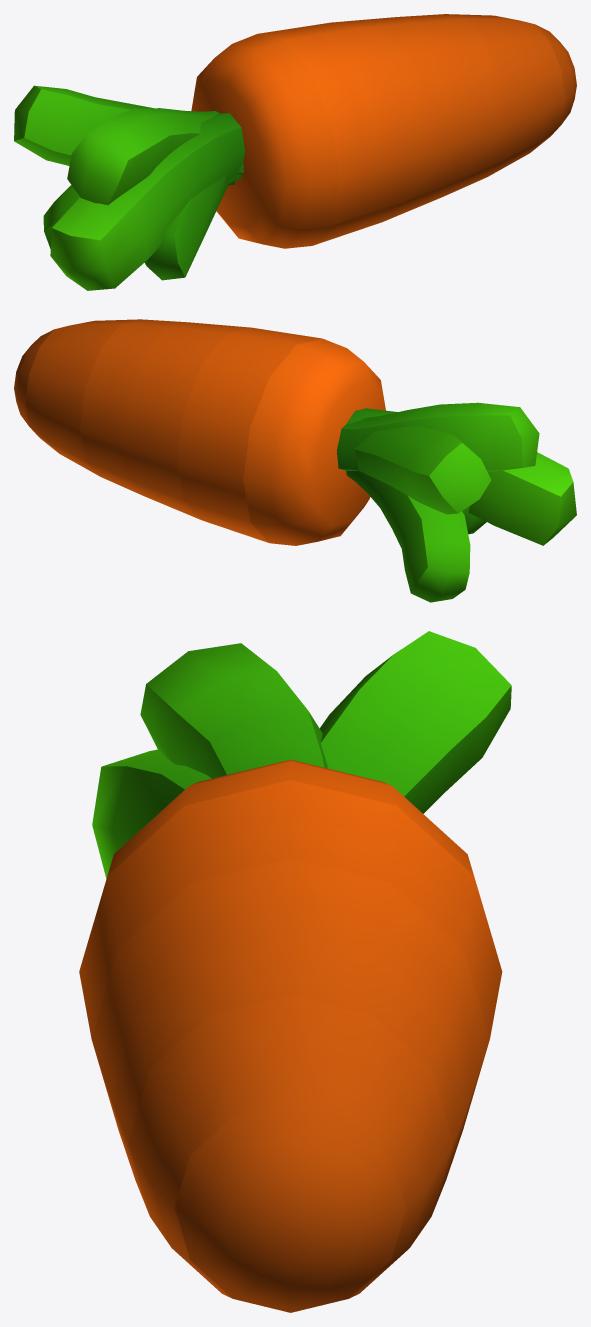
The model's file is Carrot_Sliced.fbx.
3 renders of one model, top to bottom at view 1: azimuth 30°, elevation 25°; view 2: azimuth 150°, elevation 25°; view 3: azimuth 270°, elevation 25°, orthographic. The views are drawn at different scales.
Visible parts, largest first — view 1: Carrot_P5, Carrot_P4, Carrot_P3, Carrot_P1, Carrot_P2, Carrot_Sliced; view 2: Carrot_P5, Carrot_P4, Carrot_P3, Carrot_P1, Carrot_P2, Carrot_Sliced; view 3: Carrot_P5, Carrot_P1, Carrot_Sliced, Carrot_P4, Carrot_P3, Carrot_P2.
Part boxes in pixels (x1=…): Carrot_P5: x1=14, y1=34, x2=339, y2=290; Carrot_P4: x1=258, y1=22, x2=407, y2=245; Carrot_P3: x1=331, y1=17, x2=465, y2=221; Carrot_P1: x1=446, y1=14, x2=565, y2=176; Carrot_P2: x1=396, y1=14, x2=508, y2=196; Carrot_Sliced: x1=536, y1=25, x2=576, y2=124; Carrot_P5: x1=243, y1=338, x2=576, y2=602; Carrot_P4: x1=177, y1=327, x2=321, y2=542; Carrot_P3: x1=121, y1=322, x2=250, y2=519; Carrot_P1: x1=25, y1=319, x2=140, y2=476; Carrot_P2: x1=80, y1=319, x2=187, y2=495; Carrot_Sliced: x1=14, y1=329, x2=53, y2=425; Carrot_P5: x1=92, y1=631, x2=511, y2=878; Carrot_P1: x1=128, y1=995, x2=453, y2=1298; Carrot_Sliced: x1=175, y1=1103, x2=406, y2=1312; Carrot_P4: x1=79, y1=780, x2=502, y2=1038; Carrot_P3: x1=91, y1=858, x2=489, y2=1175; Carrot_P2: x1=111, y1=935, x2=470, y2=1214.
Bounding box in the file's own units: 103 × 36.65 × 37.47.
